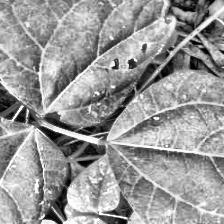ALS: (0, 0, 163, 122), (113, 89, 224, 224), (0, 114, 71, 224)
